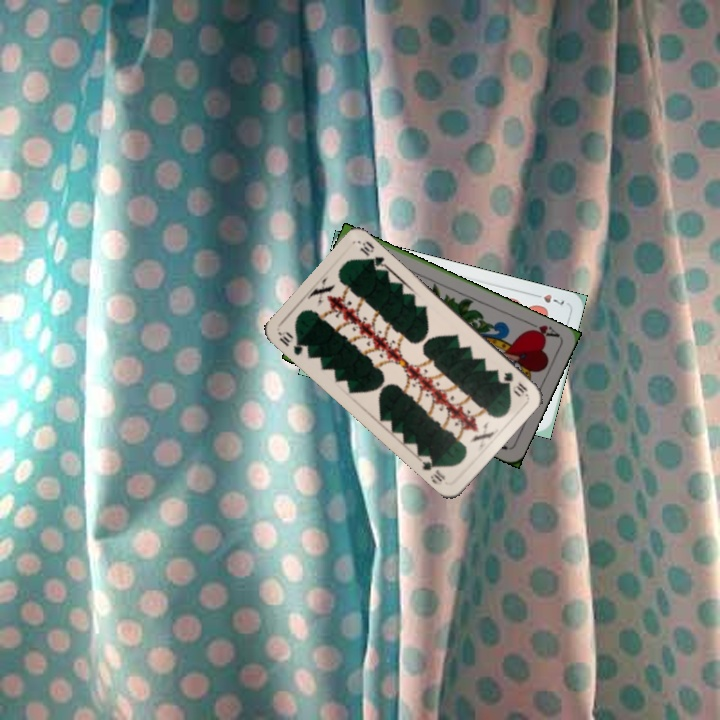G10: (275, 327, 311, 358), (499, 368, 530, 398)
H7: (529, 289, 567, 310)
HA: (523, 317, 562, 342)
